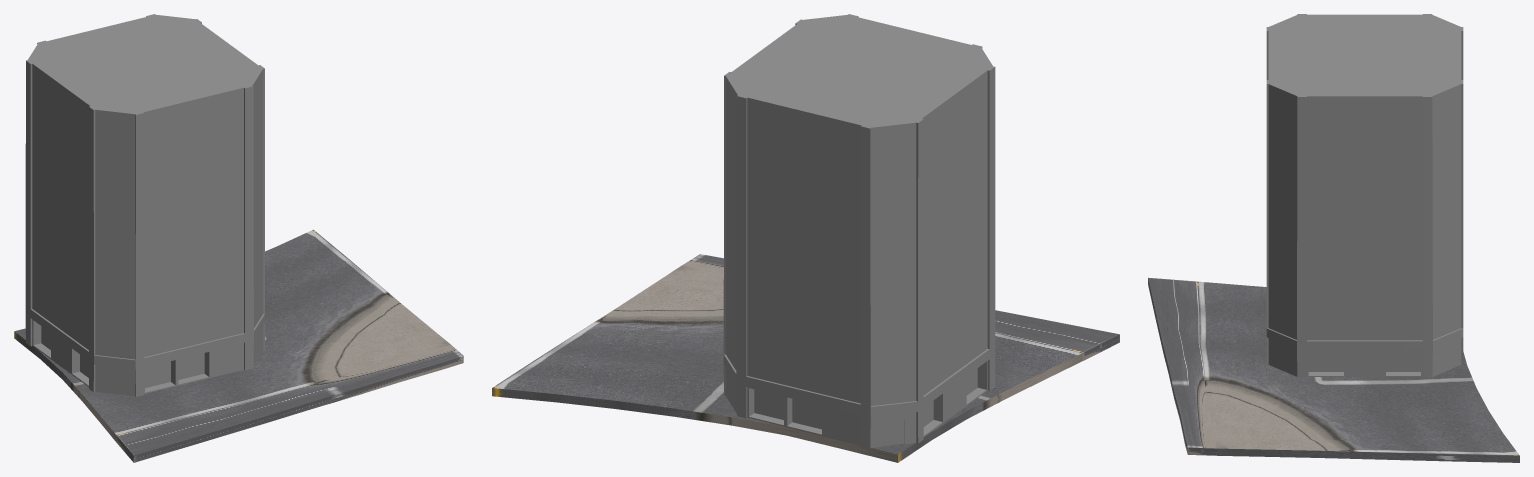
The model's file is lot19.FBX.
3 views of the same model, side by side, from view 1: azimuth 30°, elevation 25°; view 2: azimuth 150°, elevation 25°; view 3: azimuth 270°, elevation 25° (orthographic). The views are drawn at different scales.
Visible parts, largest first — view 1: lot19; view 2: lot19; view 3: lot19.
Boxes of the visible parts, <box> form: lot19: <box>14,14,463,462</box>; lot19: <box>492,14,1119,462</box>; lot19: <box>1148,14,1519,462</box>.
Size of the model in its own units: 38.92 by 29.37 by 34.36.
